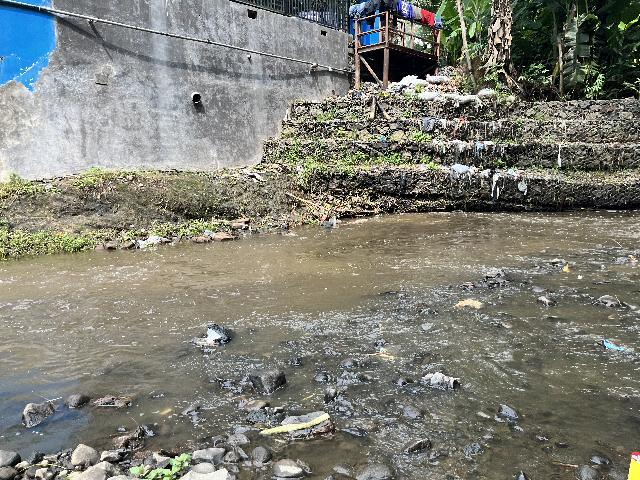Sampah Anorganik: (194, 326, 232, 350), (593, 341, 632, 357)
Sampah Organik: (253, 415, 333, 432), (365, 349, 395, 360), (453, 297, 484, 307), (555, 264, 572, 273), (160, 409, 173, 415), (630, 254, 638, 262)
